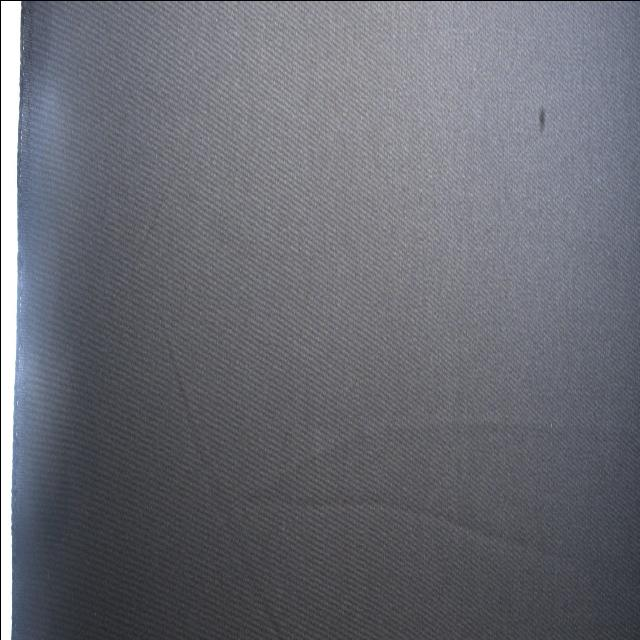crease: (248, 430, 639, 585), (157, 303, 291, 631)
